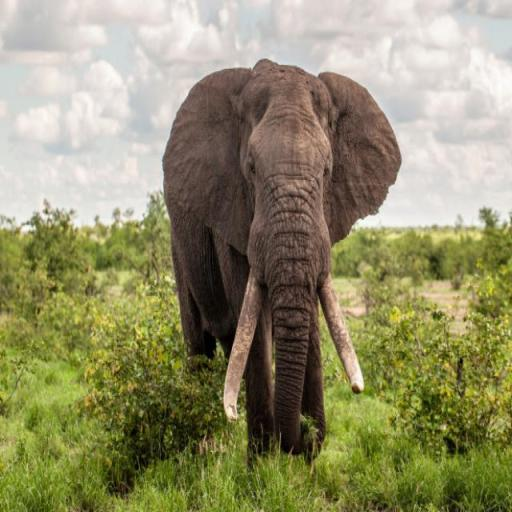Elephant: (160, 56, 402, 467)
